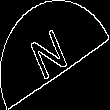N_SE: (32, 23, 78, 87)
